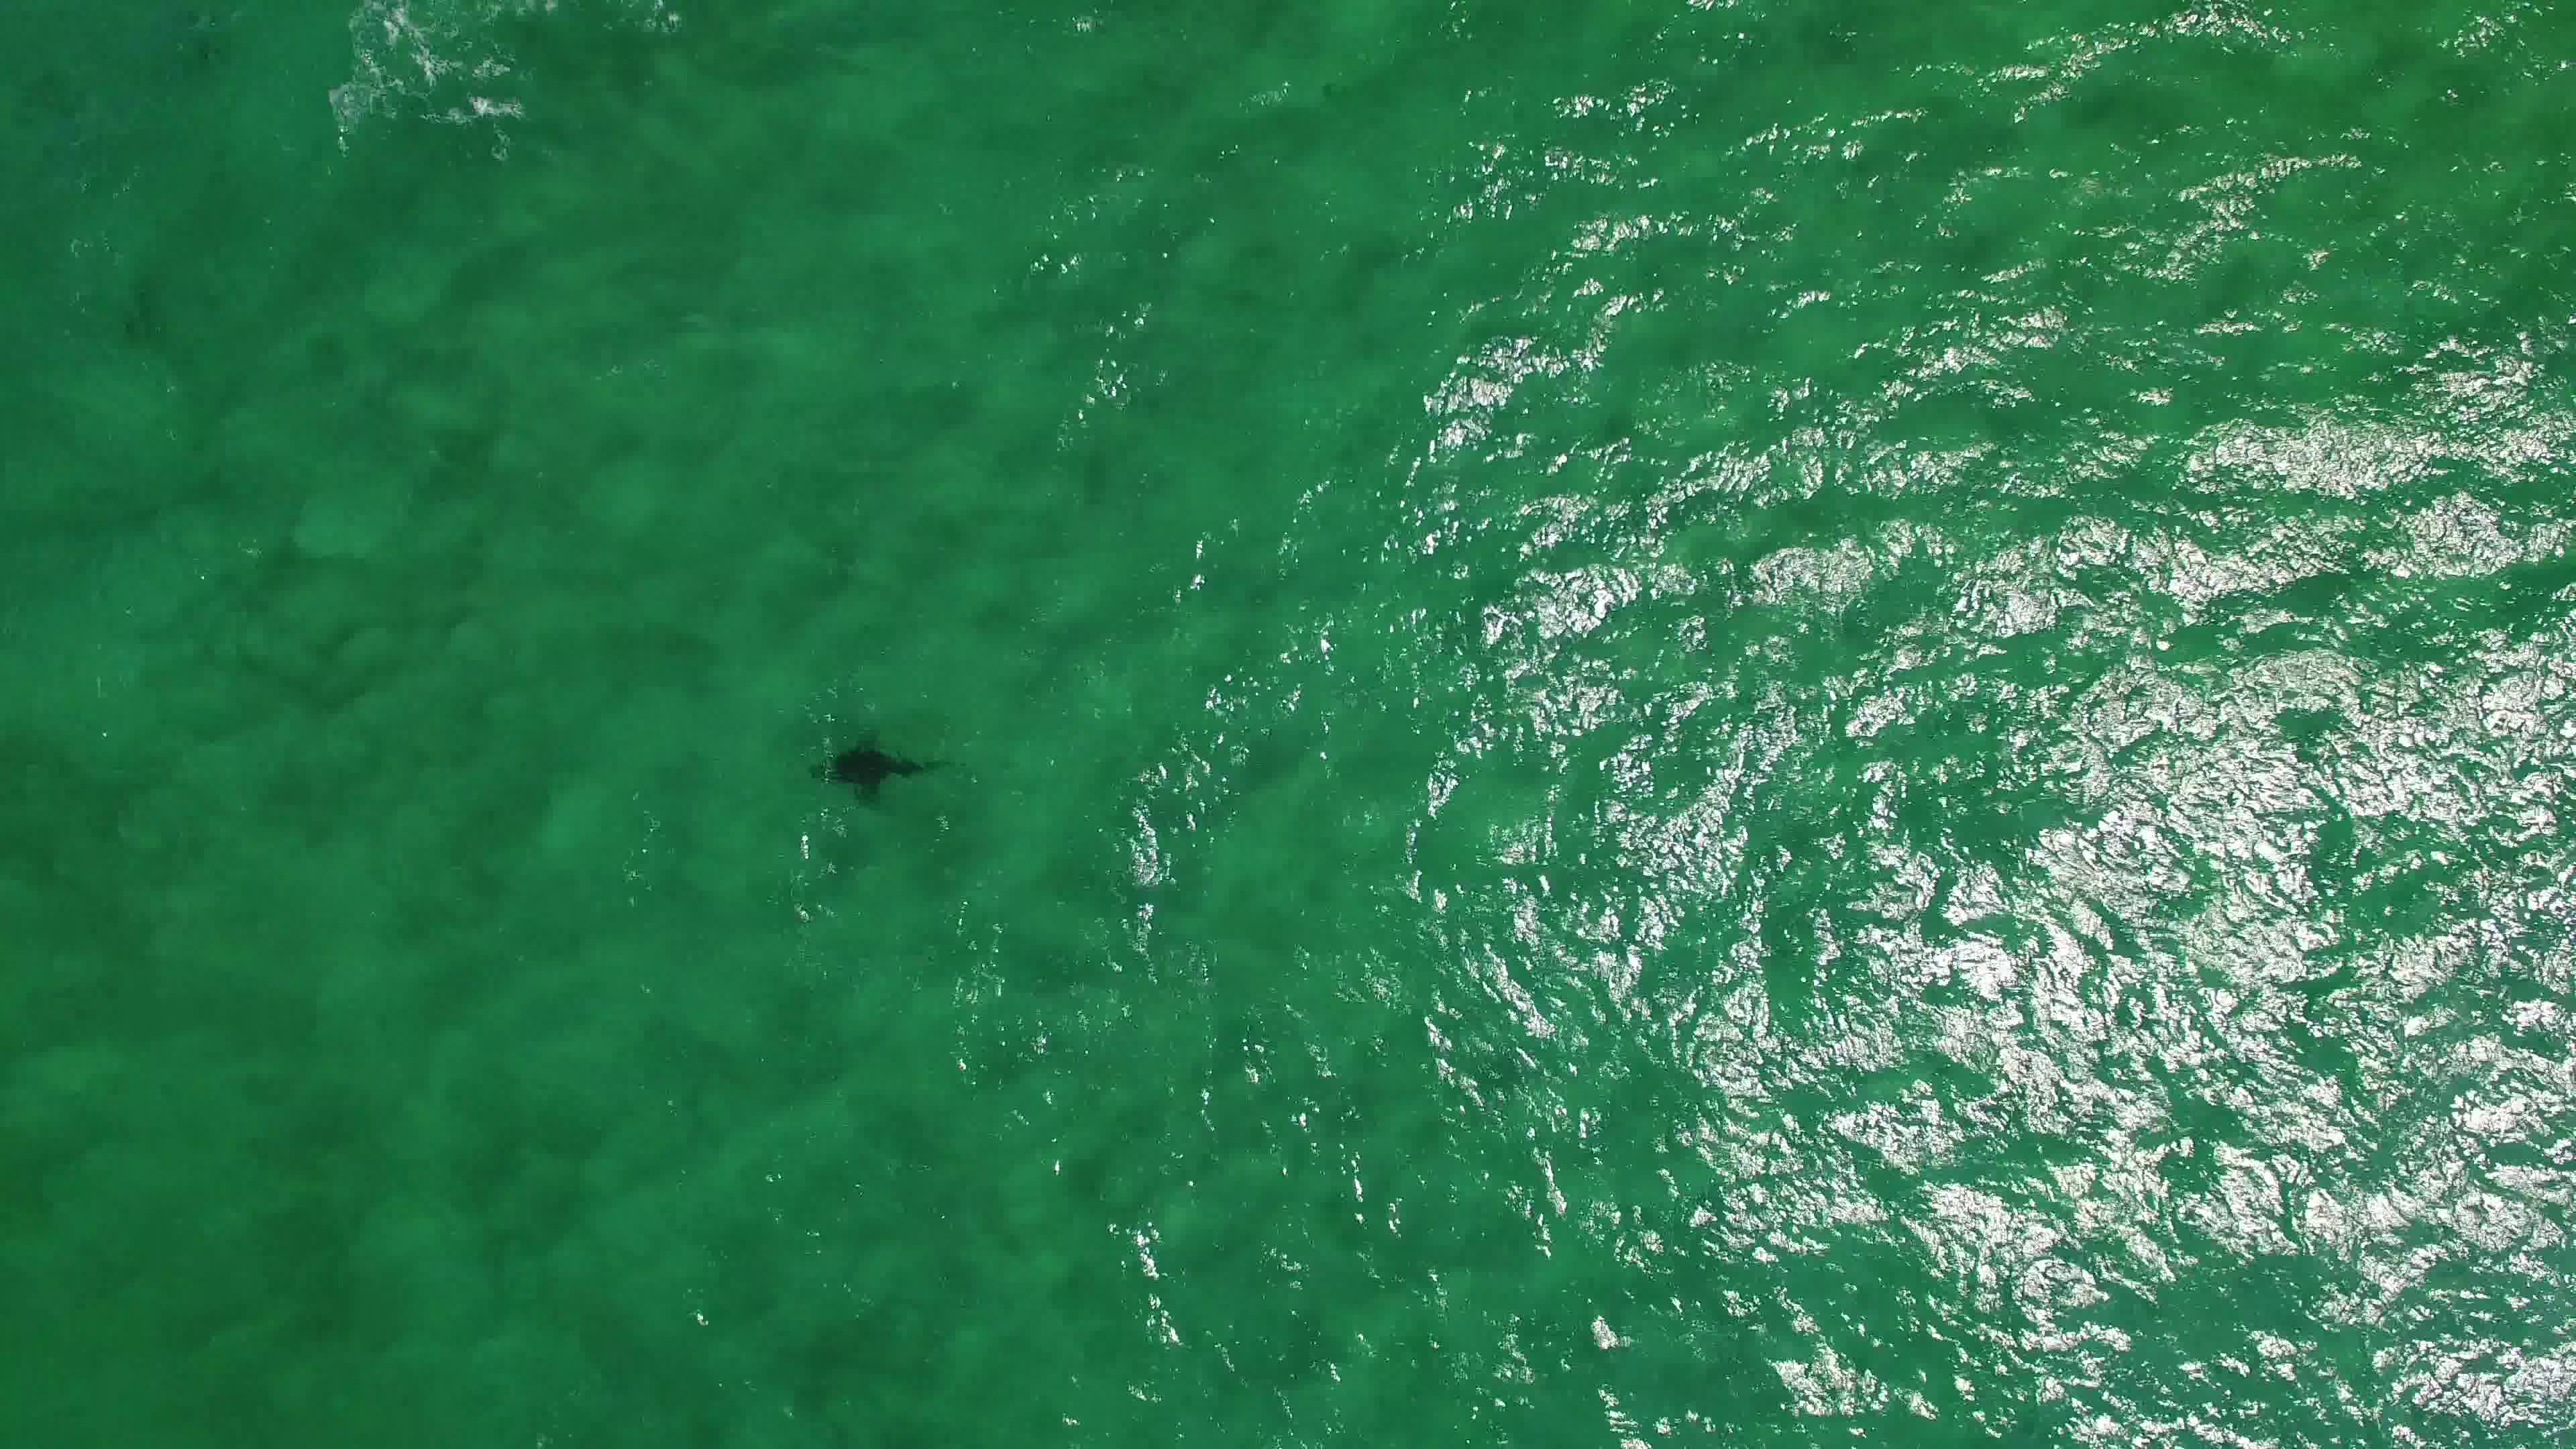shark: (801, 718, 955, 816)
